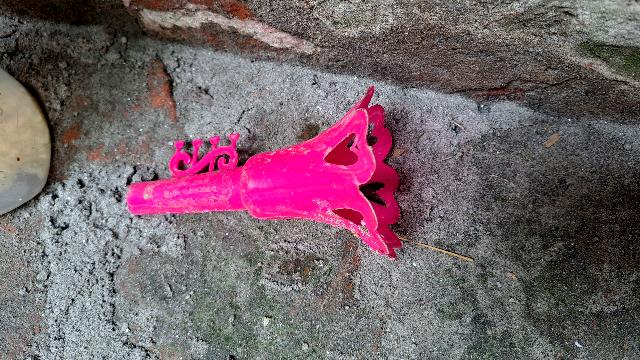hardplastic: (112, 78, 410, 263)
